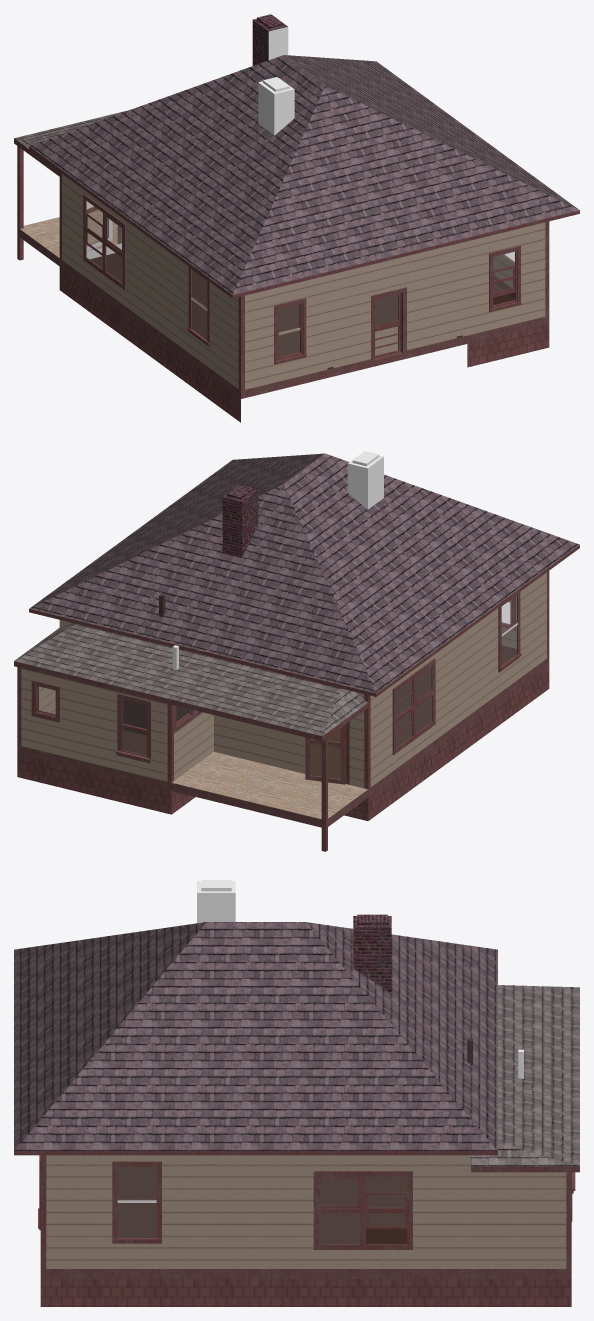
The model's file is Section-Foreman's-House.fbx.
3 views of the same model, one above another, from view 1: azimuth 30°, elevation 25°; view 2: azimuth 150°, elevation 25°; view 3: azimuth 270°, elevation 25° (orthographic). The views are drawn at different scales.
Parts seen in each view (by area): view 1: Model; view 2: Model; view 3: Model.
Part boxes in pixels (x1,y1,x2,y2): Model: (14,14,579,422); Model: (14,451,579,851); Model: (14,880,579,1306).
Bounding box in the file's own units: 346 × 247 × 411.
